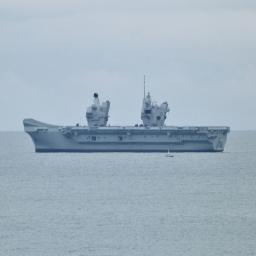Portanaves: (23, 73, 233, 156)
